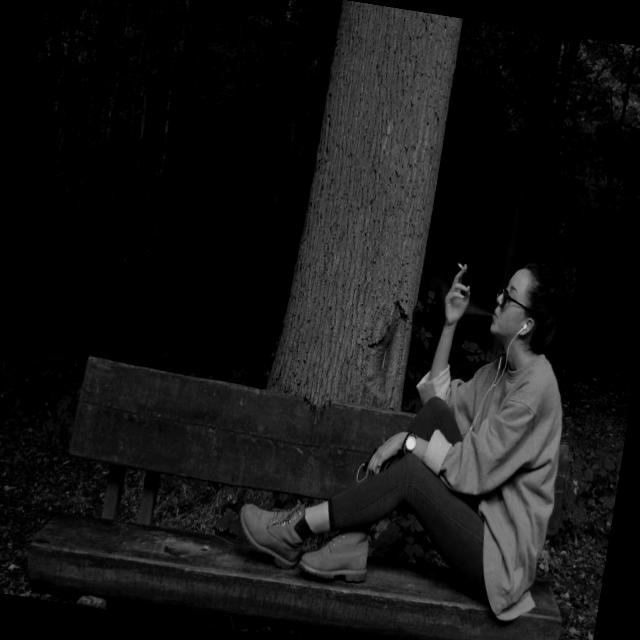smoke: (448, 251, 473, 284)
